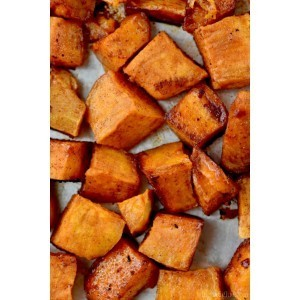sweet potato_brain food: (64, 39, 229, 276)
